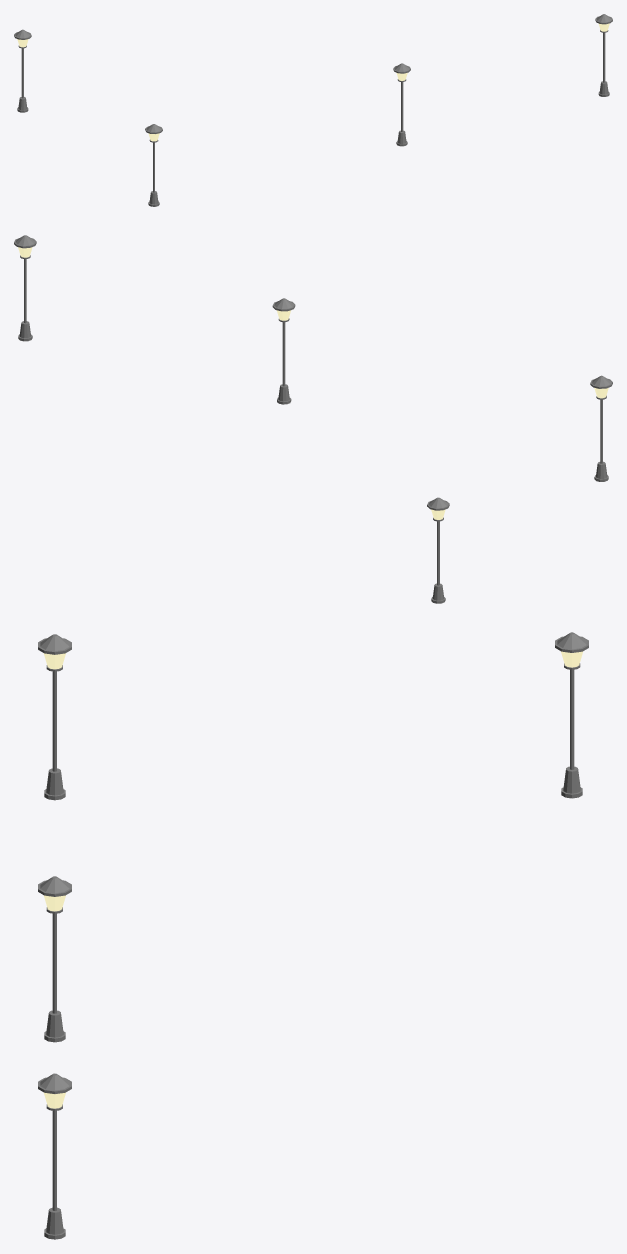
Rendered from lampadaires.gltf.
3 renders of one model, top to bottom at view 1: azimuth 30°, elevation 25°; view 2: azimuth 150°, elevation 25°; view 3: azimuth 270°, elevation 25°, orthographic. The views are drawn at different scales.
Visible parts, largest first — view 1: lampadaires; view 2: lampadaires; view 3: lampadaires.
Part boxes in pixels (bbox=[...]): lampadaires: bbox=[14, 14, 612, 206]; lampadaires: bbox=[14, 235, 612, 603]; lampadaires: bbox=[38, 632, 588, 1239].
Size of the model in its own units: 21.62 by 3.54 by 11.04.
